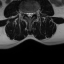CCS_normal: (28, 10, 31, 20)
LFS_normal: (33, 10, 35, 16)
LLS_normal: (31, 10, 33, 17)
RFS_stenosis: (23, 9, 26, 17)
RLS_normal: (26, 10, 28, 18)
